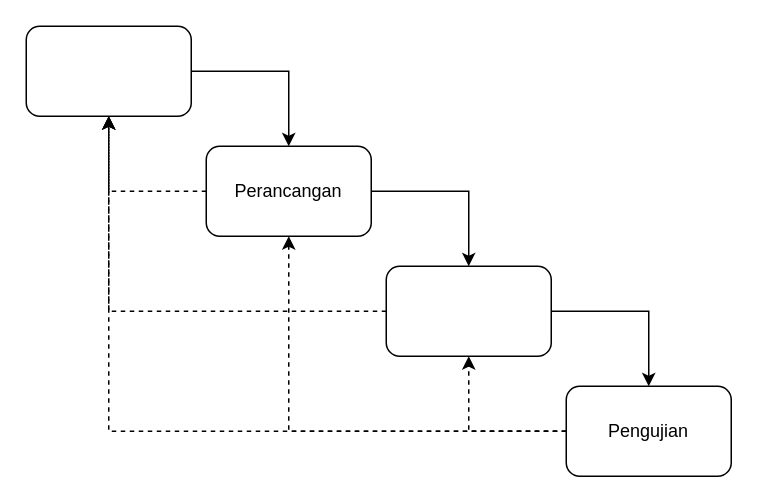
This 758x503 diagram has some shape labels left out. Here are the shapes that lost their labels. From the top down, the centre of each, then its label:
At (x=108, y=70): "Analisis".
At (x=468, y=310): "Implementasi".
